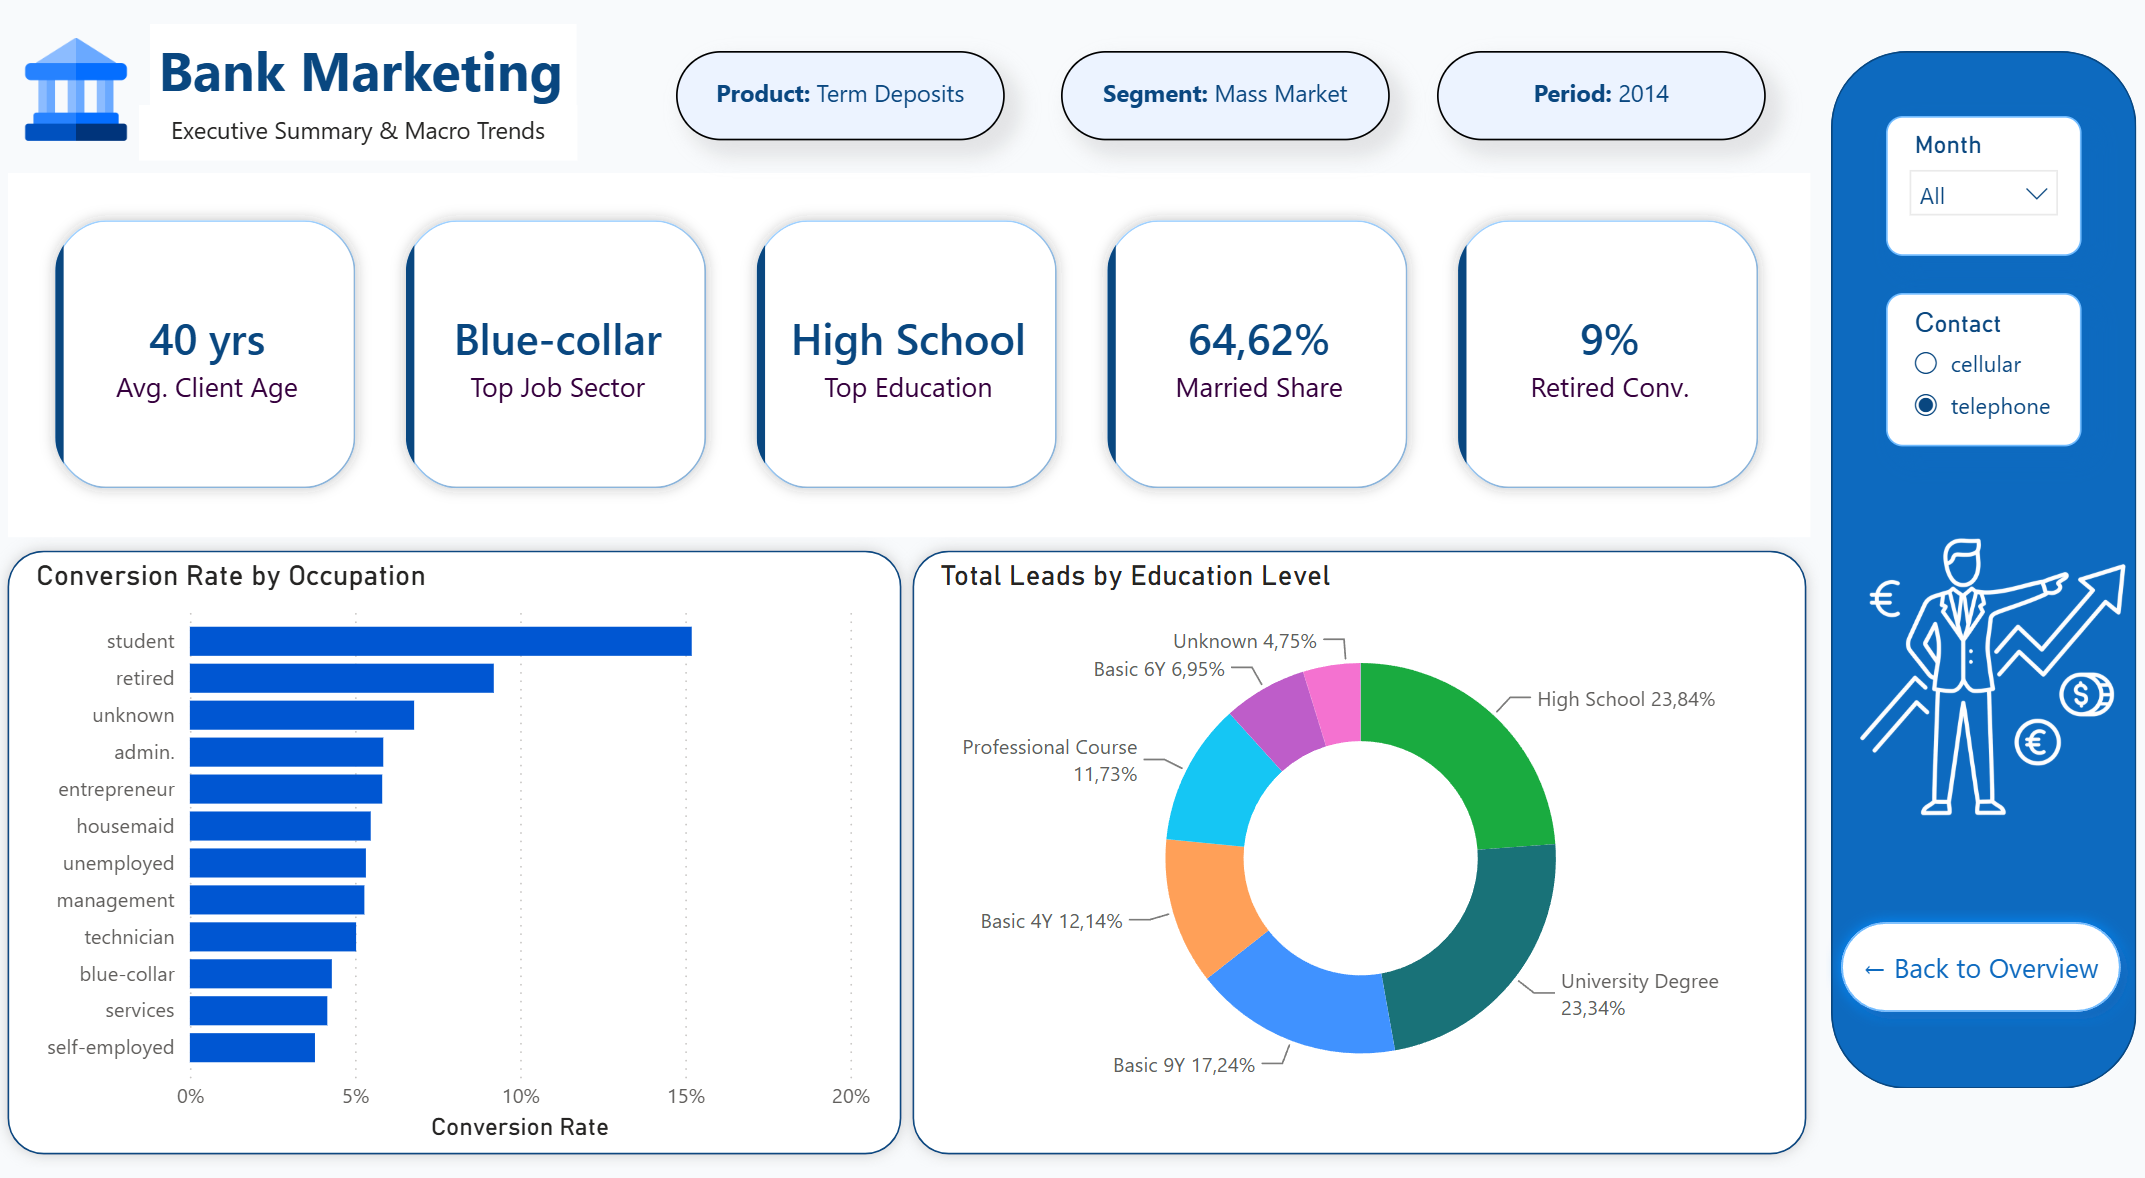

The dashboard page shown, as its layout file describes it:
{"tool":"powerbi","page":{"name":"Client Profile","canvas":[1280,720],"ordinal":1},"visuals":[{"type":"shape","box":[536.9,327.2,546.2,374.2],"z":0},{"type":"shape","box":[958.1,228.2,76.1,73],"z":1000},{"type":"shape","box":[1089.3,39,181.2,615.5],"z":2000},{"type":"shape","box":[0,327.2,546.2,374.2],"z":3000},{"type":"cardVisual","fields":{"Data":["bank_marketing_bi_ready.Avg. Client Age","bank_marketing_bi_ready.Top Job Sector Clean","bank_marketing_bi_ready.Top Education Clean","bank_marketing_bi_ready.Married Share","bank_marketing_bi_ready.Retired Conv."]},"box":[8,111.3,1068.9,215.9],"z":4000},{"type":"textbox","box":[92.8,22.9,253,55.1],"z":5000},{"type":"image","box":[4.3,31.5,88.5,60.6],"z":6000},{"type":"slicer","fields":{"Values":["bank_marketing_bi_ready.month"]},"box":[1122.1,77.9,116.3,82.9],"z":7000},{"type":"slicer","fields":{"Values":["bank_marketing_bi_ready.contact"]},"box":[1122.1,182.5,116.3,90.9],"z":8000},{"type":"textbox","box":[86,71.1,259.8,32.8],"z":9000},{"type":"image","box":[1083.1,295.1,193.6,225.2],"z":10000},{"type":"textbox","box":[404.5,39,194.8,53.2],"z":11000},{"type":"textbox","box":[632.8,39,194.8,53.2],"z":12000},{"type":"textbox","box":[856.1,39,194.8,53.2],"z":13000},{"type":"actionButton","box":[1086.8,546.8,183.7,71.1],"z":14000},{"type":"clusteredBarChart","title":"Conversion Rate by Occupation","fields":{"Category":["bank_marketing_bi_ready.job"],"Y":["bank_marketing_bi_ready.Conversion Rate"]},"box":[20.4,339.6,504.7,350.1],"z":15000},{"type":"donutChart","title":"Total Leads by Education Level","fields":{"Category":["bank_marketing_bi_ready.education"],"Y":["bank_marketing_bi_ready.Total Leads"]},"box":[556.1,339.6,508.5,337.1],"z":16000}]}

Visuals, with their boxes in screenshot pixels (x1, y1, x2, y2), scaled from the page's 1280x720 canvas onto the 2145x1178 screenshot:
shape: 900, 535, 1815, 1148
shape: 1606, 373, 1733, 493
shape: 1825, 64, 2129, 1071
shape: 0, 535, 915, 1148
cardVisual - bank_marketing_bi_ready.Avg. Client Age x bank_marketing_bi_ready.Top Job Sector Clean: 13, 182, 1805, 535
textbox: 156, 37, 579, 128
image: 7, 52, 156, 151
slicer - bank_marketing_bi_ready.month: 1880, 127, 2075, 263
slicer - bank_marketing_bi_ready.contact: 1880, 299, 2075, 447
textbox: 144, 116, 579, 170
image: 1815, 483, 2139, 851
textbox: 678, 64, 1004, 151
textbox: 1060, 64, 1387, 151
textbox: 1435, 64, 1761, 151
actionButton: 1821, 895, 2129, 1011
"Conversion Rate by Occupation" clusteredBarChart: 34, 556, 880, 1128
"Total Leads by Education Level" donutChart: 932, 556, 1784, 1107
